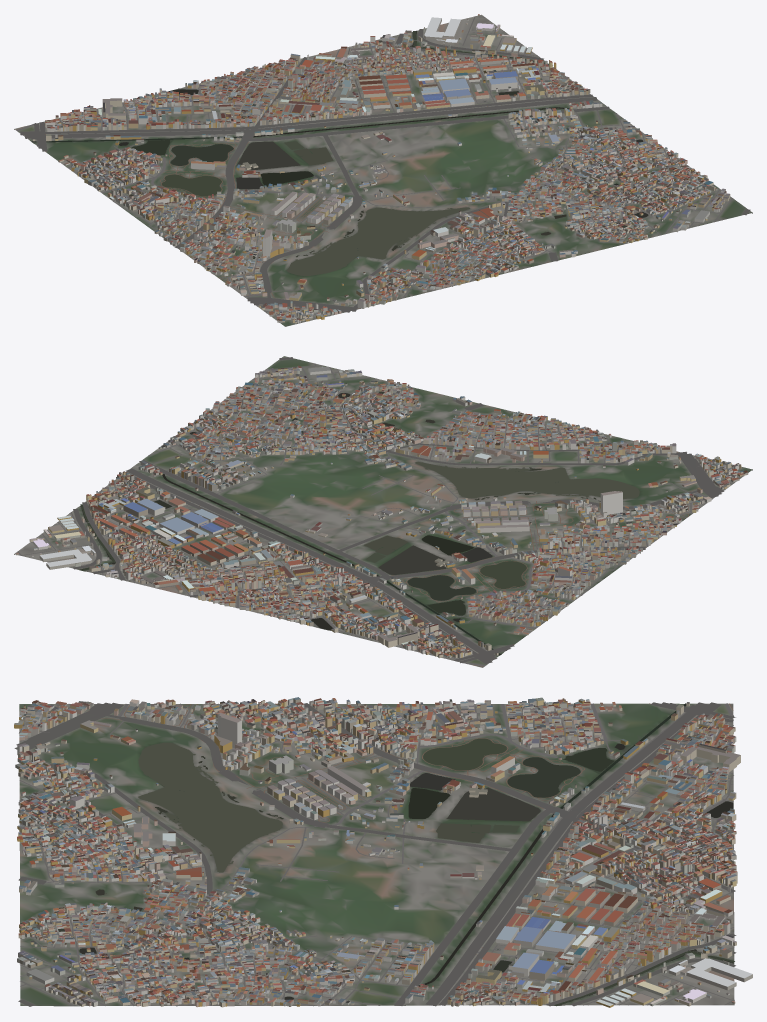
3 views of the same model, one above another, from view 1: azimuth 30°, elevation 25°; view 2: azimuth 150°, elevation 25°; view 3: azimuth 270°, elevation 25° (orthographic). The views are drawn at different scales.
Visible parts, largest first — view 1: buildings, ground, roads, water; view 2: buildings, ground, roads, water; view 3: buildings, ground, roads, water.
Boxes of the visible parts, <box> form: buildings: <box>32,14,730,323</box>; ground: <box>14,14,752,326</box>; roads: <box>16,16,750,320</box>; water: <box>31,30,648,275</box>; buildings: <box>16,365,748,658</box>; ground: <box>14,356,752,667</box>; roads: <box>17,357,743,666</box>; water: <box>79,393,639,655</box>; buildings: <box>14,697,752,1007</box>; ground: <box>19,703,734,1006</box>; roads: <box>14,702,736,1006</box>; water: <box>79,703,734,1006</box>.
Size of the model in its own units: 1417 by 61.29 by 1451.
